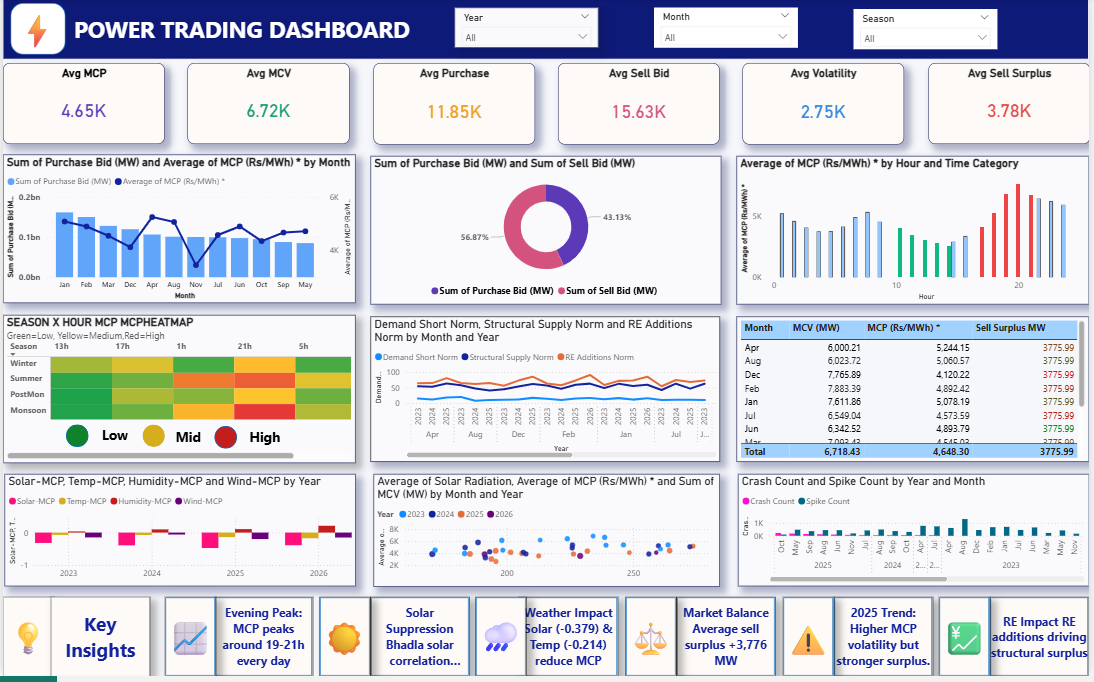

The dashboard page shown, as its layout file describes it:
{"tool":"powerbi","page":{"name":"Page 1","canvas":[1600,1000],"ordinal":0},"visuals":[{"type":"shape","box":[0,2.2,1599.4,90],"z":0},{"type":"shape","box":[11,8.8,81,76],"z":1000},{"type":"PBI_CV_7B952816_A48F_49B4_9E13_15E3BB2C0337","title":" Avg MCP","fields":{"Values":["Avg(Sheet1.Avg MCP)"]},"box":[0,97.2,238,119.3],"z":2000},{"type":"PBI_CV_7B952816_A48F_49B4_9E13_15E3BB2C0337","title":" Avg MCV","fields":{"Values":["Avg(Sheet1.Avg MCV)"]},"box":[272.3,97.2,238.6,119.3],"z":3000},{"type":"PBI_CV_7B952816_A48F_49B4_9E13_15E3BB2C0337","title":" Avg Purchase","fields":{"Values":["Avg(Sheet1.Purchase Bid (MW))"]},"box":[545.2,97.2,238,120],"z":4000},{"type":"PBI_CV_7B952816_A48F_49B4_9E13_15E3BB2C0337","title":" Avg Sell Bid","fields":{"Values":["Avg(Sheet1.Sell Bid (MW))"]},"box":[817.4,97.2,238,120],"z":5000},{"type":"PBI_CV_7B952816_A48F_49B4_9E13_15E3BB2C0337","title":" Avg Volatility","fields":{"Values":["Avg(Sheet1.MCP Volatility)"]},"box":[1089.7,97.2,238,120],"z":6000},{"type":"PBI_CV_7B952816_A48F_49B4_9E13_15E3BB2C0337","title":"Avg  Sell Surplus","fields":{"Values":["Avg(Sheet1.Sell Surplus MW)"]},"box":[1362,97.2,238,119.3],"z":7000},{"type":"lineStackedColumnComboChart","fields":{"Category":["Sheet1.Month"],"Y":["Sum(Sheet1.Purchase Bid (MW))"],"Y2":["Avg(Sheet1.MCP (Rs/MWh) *)"]},"box":[0,232.8,519.2,218.7],"z":8000},{"type":"clusteredColumnChart","fields":{"Series":["Sheet1.Time Category"],"Y":["Avg(Sheet1.MCP (Rs/MWh) *)"],"Category":["Sheet1.Hour"]},"box":[1080.3,234.5,519.2,218.7],"z":9000},{"type":"donutChart","fields":{"Y":["Sum(Sheet1.Purchase Bid (MW))","Sum(Sheet1.Sell Bid (MW))"]},"box":[541.2,234.8,516.9,218.7],"z":10000},{"type":"slicer","title":"MCVVSMCP-SCATTER","fields":{"Values":["Sheet1.Year"]},"box":[665,15.5,212.1,59.6],"z":11000},{"type":"tableEx","fields":{"Values":["Sheet1.Month","Avg(Sheet1.MCV (MW))","Avg(Sheet1.MCP (Rs/MWh) *)","Avg(Sheet1.Sell Surplus MW)"]},"box":[1080.3,470.4,519.2,214.3],"z":12000},{"type":"clusteredColumnChart","fields":{"Category":["Sheet1.Year"],"Y":["Sheet1.Solar-MCP","Sheet1.Temp-MCP","Correlation Metrics.Humidity-MCP","Correlation Metrics.Wind-MCP"]},"box":[2.4,702,517.4,165.2],"z":13000},{"type":"pivotTable","title":"SEASON X HOUR MCP MCPHEATMAP","fields":{"Rows":["Sheet1.Season"],"Values":["Avg(Sheet1.MCP (Rs/MWh) *)"],"Columns":["Sheet1.Hour Bin"]},"box":[0,467.8,519.2,218],"z":14000},{"type":"scatterChart","fields":{"Category":["Sheet1.Month"],"Y":["Avg(Sheet1.MCP (Rs/MWh) *)"],"Size":["Sum(Sheet1.MCV (MW))"],"Series":["Sheet1.Year"],"X":["Avg(Sheet1.Solar Radiation)"]},"box":[546.3,702.5,510.3,165.7],"z":15000},{"type":"slicer","fields":{"Values":["Sheet1.Month"]},"box":[958.8,15.5,212.1,59.6],"z":16000},{"type":"slicer","fields":{"Values":["Sheet1.Season"]},"box":[1252.6,17.7,212.1,59.6],"z":17000},{"type":"shape","box":[108.2,620.8,112.7,48.6],"z":18000},{"type":"shape","box":[92.8,629.6,33.1,33.1],"z":19000},{"type":"shape","box":[205.5,629.6,33,33],"z":20000},{"type":"shape","box":[216.5,625.2,112.7,44.2],"z":21000},{"type":"shape","box":[311.5,631.8,33.1,33.1],"z":22000},{"type":"shape","box":[329.2,625.2,112.7,44.2],"z":23000},{"type":"stackedAreaChart","fields":{"Y":["Sheet1.Demand Short Norm","Sheet1.Structural Supply Norm","Sheet1.RE Additions Norm"],"Category":["Sheet1.Month","Sheet1.Year"]},"box":[542.2,471.1,515,213.8],"z":24000},{"type":"clusteredColumnChart","fields":{"Category":["Sheet1.Year","Sheet1.Month"],"Y":["Sheet1.Crash Count","Sheet1.Spike Count"]},"box":[1083,702,517,165],"z":25000},{"type":"shape","box":[311.5,883.7,145,117.1],"z":26000},{"type":"shape","box":[542,883.7,145.8,117.1],"z":27000},{"type":"shape","box":[991.9,883.7,145.8,117.1],"z":28000},{"type":"shape","box":[759,883.7,145.8,117.1],"z":29000},{"type":"shape","box":[1223.9,883.7,145.8,117.1],"z":30000},{"type":"shape","box":[0,883.7,75.1,117.1],"z":31000},{"type":"shape","box":[70.7,883.7,145.8,117.1],"z":32000},{"type":"shape","box":[238.6,883.7,75.1,117.1],"z":33000},{"type":"shape","box":[1453.6,883.7,145.8,117.1],"z":34000},{"type":"shape","box":[467,883.7,75.1,117.1],"z":35000},{"type":"shape","box":[1378.5,883.7,75.1,117.1],"z":36000},{"type":"shape","box":[1148.8,883.7,75.1,117.1],"z":37000},{"type":"shape","box":[916.8,883.7,75.1,117.1],"z":38000},{"type":"shape","box":[695.9,883.7,75.1,117.1],"z":39000}]}

Visuals, with their boxes in screenshot pixels (x1, y1, x2, y2), scaled from the page's 1600x1000 canvas onto the 1094x682 screenshot:
shape: l=0, t=2, r=1093, b=63
shape: l=8, t=6, r=63, b=58
" Avg MCP" PBI_CV_7B952816_A48F_49B4_9E13_15E3BB2C0337: l=0, t=66, r=163, b=148
" Avg MCV" PBI_CV_7B952816_A48F_49B4_9E13_15E3BB2C0337: l=186, t=66, r=349, b=148
" Avg Purchase" PBI_CV_7B952816_A48F_49B4_9E13_15E3BB2C0337: l=373, t=66, r=536, b=148
" Avg Sell Bid" PBI_CV_7B952816_A48F_49B4_9E13_15E3BB2C0337: l=559, t=66, r=722, b=148
" Avg Volatility" PBI_CV_7B952816_A48F_49B4_9E13_15E3BB2C0337: l=745, t=66, r=908, b=148
"Avg  Sell Surplus" PBI_CV_7B952816_A48F_49B4_9E13_15E3BB2C0337: l=931, t=66, r=1093, b=148
lineStackedColumnComboChart - Sheet1.Month x Sum(Sheet1.Purchase Bid (MW)): l=0, t=159, r=355, b=308
clusteredColumnChart - Sheet1.Time Category x Avg(Sheet1.MCP (Rs/MWh) *): l=739, t=160, r=1093, b=309
donutChart - Sum(Sheet1.Purchase Bid (MW)) x Sum(Sheet1.Sell Bid (MW)): l=370, t=160, r=723, b=309
"MCVVSMCP-SCATTER" slicer: l=455, t=11, r=600, b=51
tableEx - Sheet1.Month x Avg(Sheet1.MCV (MW)): l=739, t=321, r=1093, b=467
clusteredColumnChart - Sheet1.Year x Sheet1.Solar-MCP: l=2, t=479, r=355, b=591
"SEASON X HOUR MCP MCPHEATMAP" pivotTable: l=0, t=319, r=355, b=468
scatterChart - Sheet1.Month x Avg(Sheet1.MCP (Rs/MWh) *): l=374, t=479, r=722, b=592
slicer - Sheet1.Month: l=656, t=11, r=801, b=51
slicer - Sheet1.Season: l=856, t=12, r=1001, b=53
shape: l=74, t=423, r=151, b=457
shape: l=63, t=429, r=86, b=452
shape: l=141, t=429, r=163, b=452
shape: l=148, t=426, r=225, b=457
shape: l=213, t=431, r=236, b=453
shape: l=225, t=426, r=302, b=457
stackedAreaChart - Sheet1.Demand Short Norm x Sheet1.Structural Supply Norm: l=371, t=321, r=723, b=467
clusteredColumnChart - Sheet1.Year x Sheet1.Month: l=741, t=479, r=1093, b=591
shape: l=213, t=603, r=312, b=681
shape: l=371, t=603, r=470, b=681
shape: l=678, t=603, r=778, b=681
shape: l=519, t=603, r=619, b=681
shape: l=837, t=603, r=937, b=681
shape: l=0, t=603, r=51, b=681
shape: l=48, t=603, r=148, b=681
shape: l=163, t=603, r=214, b=681
shape: l=994, t=603, r=1093, b=681
shape: l=319, t=603, r=371, b=681
shape: l=943, t=603, r=994, b=681
shape: l=785, t=603, r=837, b=681
shape: l=627, t=603, r=678, b=681
shape: l=476, t=603, r=527, b=681
